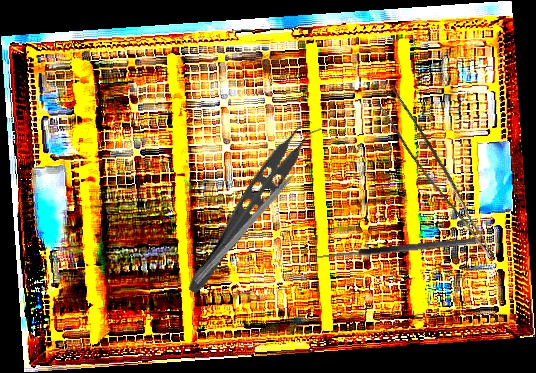Chopper: (193, 158, 315, 291)
Hook Surgical: (307, 236, 482, 270)
Tissue Forceps: (183, 112, 326, 305), (370, 88, 513, 258)
